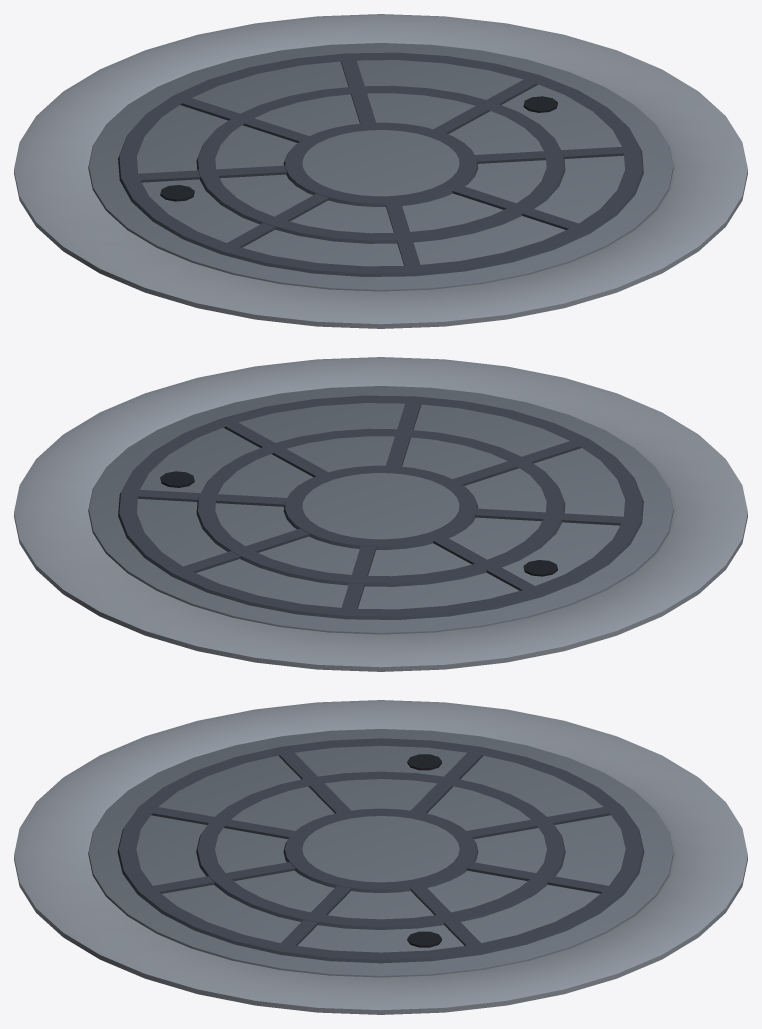
File: tampa_bueiro.glb
The picture shows the model from 3 angles, top to bottom: view 1: azimuth 30°, elevation 25°; view 2: azimuth 150°, elevation 25°; view 3: azimuth 270°, elevation 25°; orthographic projection.
Visible parts, largest first — view 1: tampa_bueiro; view 2: tampa_bueiro; view 3: tampa_bueiro.
Boxes of the visible parts, x1,y1,x2,y2 form: tampa_bueiro: (14,14,747,328); tampa_bueiro: (14,357,747,671); tampa_bueiro: (14,700,747,1014).
Size of the model in its own units: 0.84 by 0.0135 by 0.84.
1 material, 1 textured.
